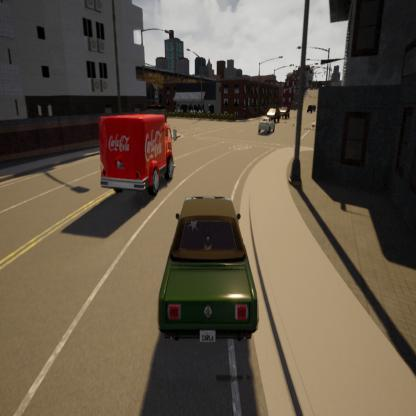Cars: (149, 162, 270, 384), (85, 76, 184, 218), (250, 107, 278, 149), (274, 93, 294, 130), (306, 95, 318, 122)
